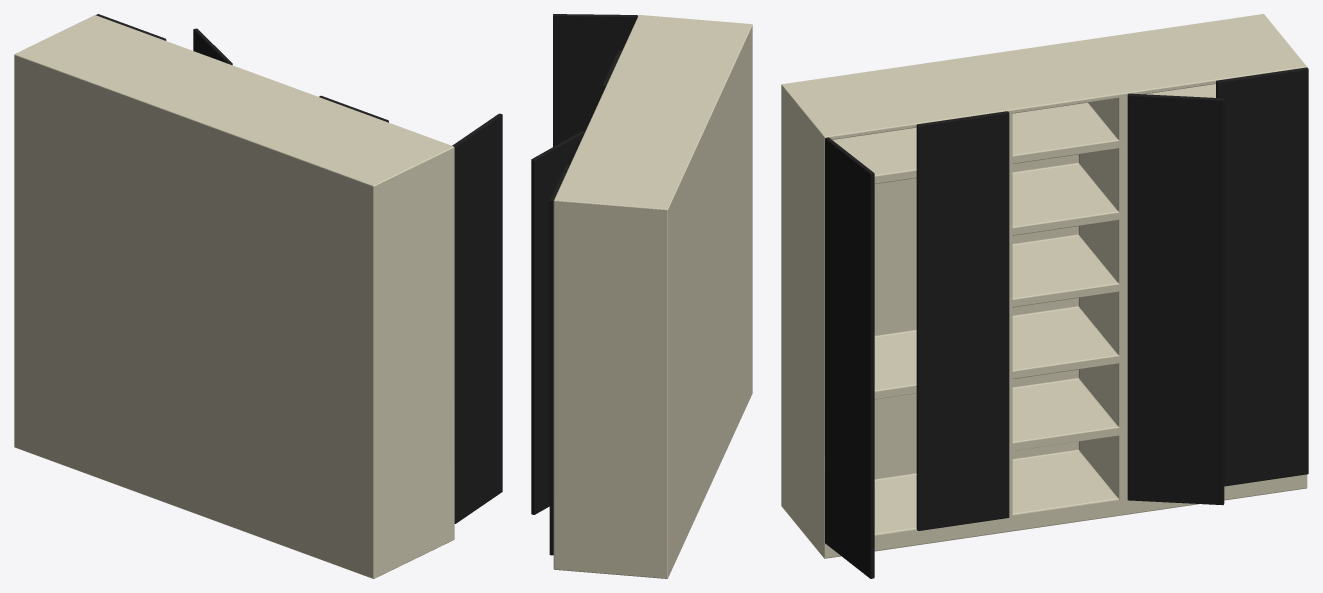
File: skrin.fbx
3 views of the same model, side by side, from view 1: azimuth 30°, elevation 25°; view 2: azimuth 150°, elevation 25°; view 3: azimuth 270°, elevation 25° (orthographic). The views are drawn at different scales.
Parts seen in each view (by area): view 1: Cube.003, Cube.007; view 2: Cube.003, Cube.007; view 3: Cube.007, Cube.003.
Part boxes in pixels (left/top/right/bottom): Cube.003: left=14, top=15, right=454, bottom=578; Cube.007: left=96, top=14, right=502, bottom=523; Cube.003: left=553, top=15, right=752, bottom=578; Cube.007: left=531, top=14, right=637, bottom=555; Cube.007: left=825, top=67, right=1308, bottom=578; Cube.003: left=781, top=14, right=1307, bottom=558.
Size of the model in its own units: 313 by 386 by 437.
